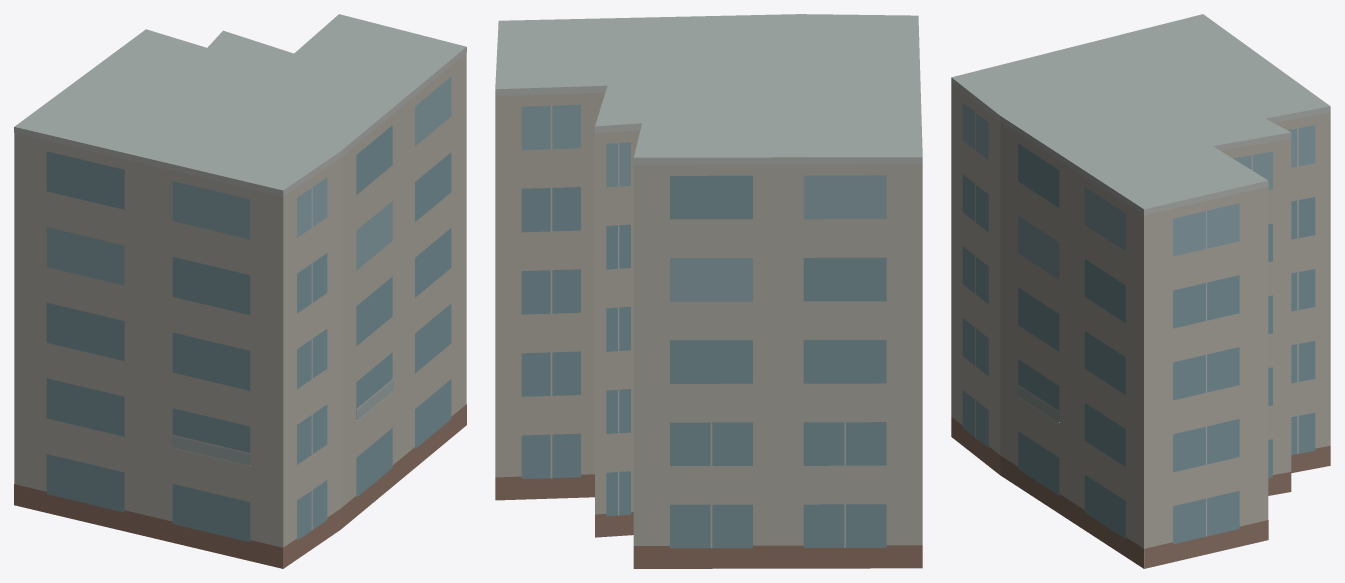
Rendered from survey-upis-33038892.glb.
3 views of the same model, side by side, from view 1: azimuth 30°, elevation 25°; view 2: azimuth 150°, elevation 25°; view 3: azimuth 270°, elevation 25° (orthographic). The views are drawn at different scales.
Parts seen in each view (by area): view 1: survey-upis-33038892.tmp; view 2: survey-upis-33038892.tmp; view 3: survey-upis-33038892.tmp.
Boxes of the visible parts, x1,y1,x2,y2 form: survey-upis-33038892.tmp: [14, 14, 466, 568]; survey-upis-33038892.tmp: [495, 14, 922, 568]; survey-upis-33038892.tmp: [951, 14, 1330, 568].
Size of the model in its own units: 17.03 by 14.6 by 13.97.
